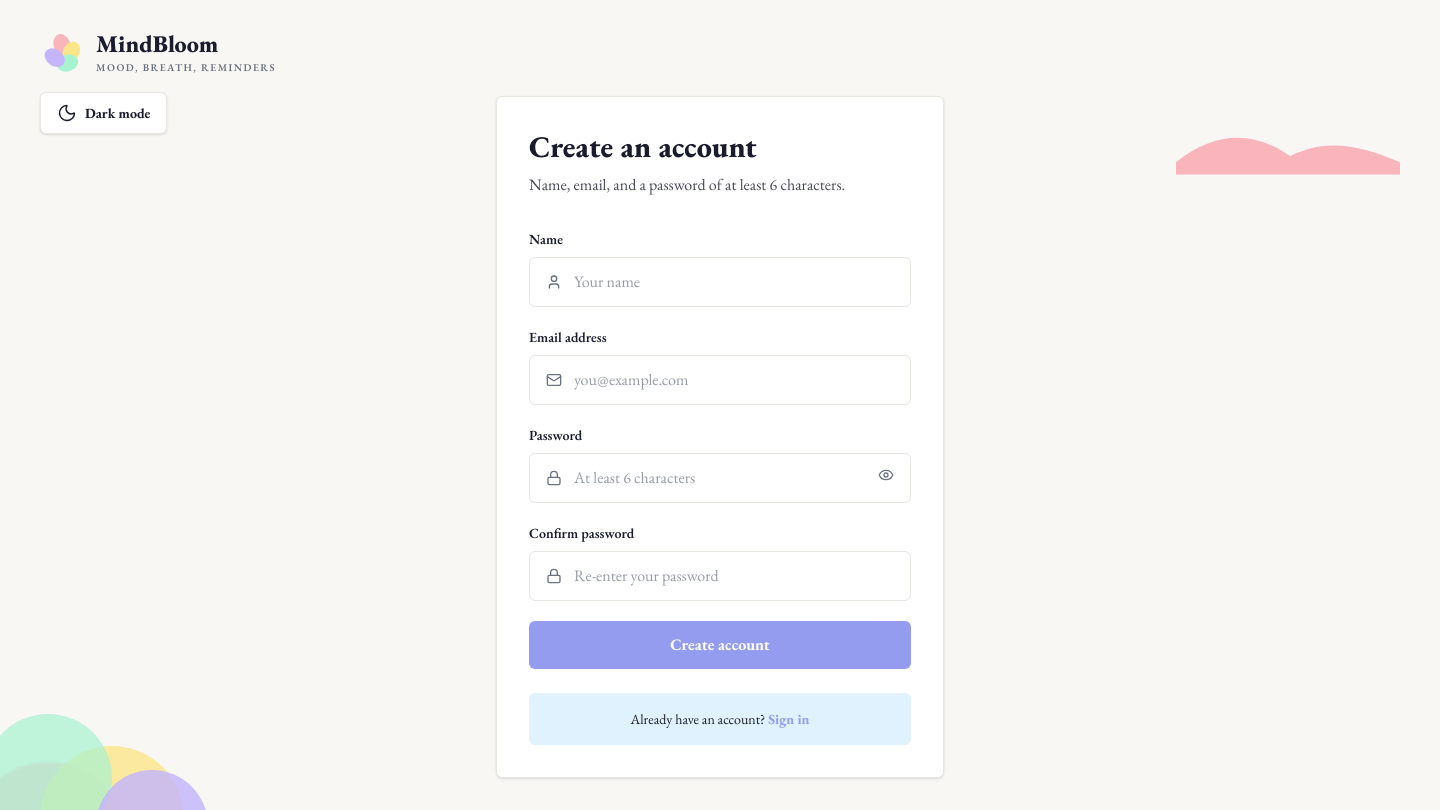
Test: Register › requires a name
Click the submit button at {"x": 720, "y": 645}, box [529, 621, 911, 669]
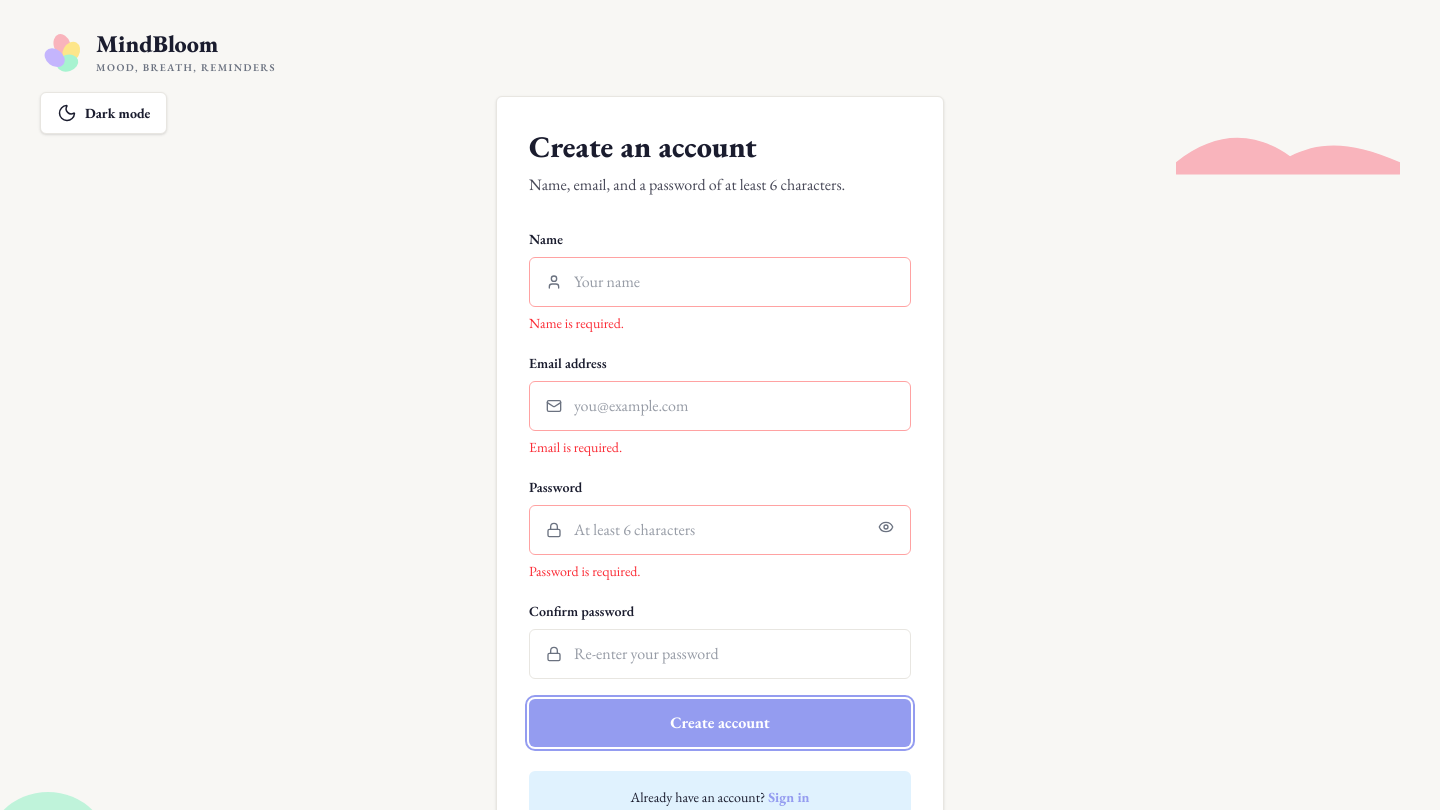
Expected: the text "Name is required." is shown, [529, 314, 624, 332]
